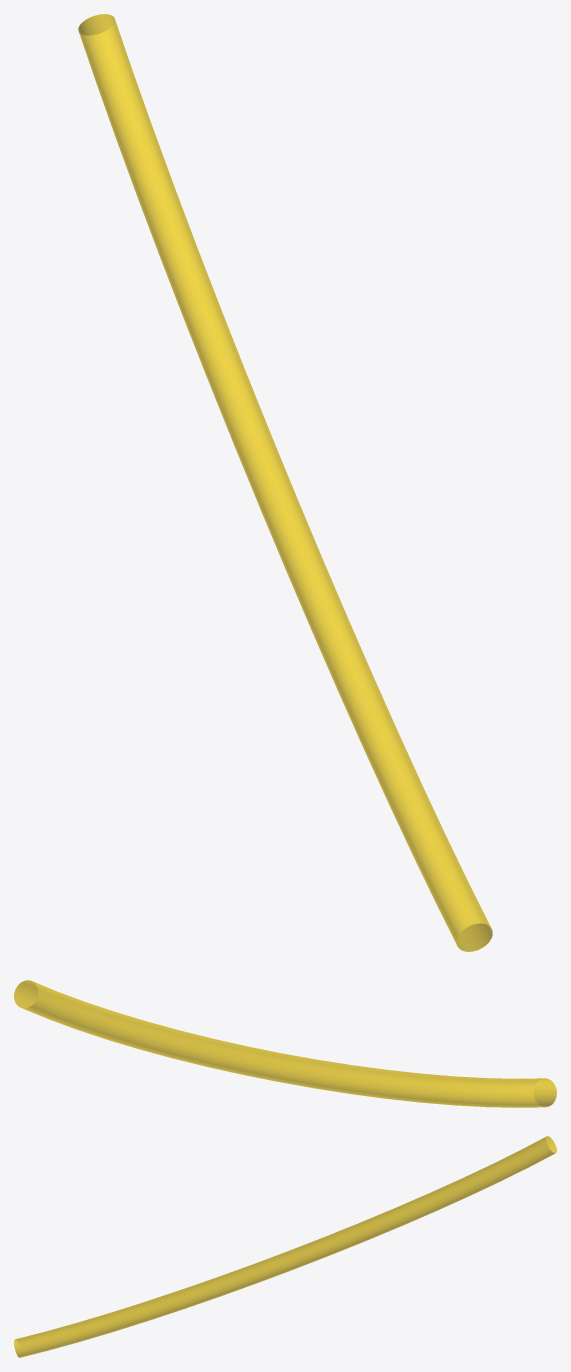
The model's file is Event_75125125_track_116.fbx.
3 renders of one model, top to bottom at view 1: azimuth 30°, elevation 25°; view 2: azimuth 150°, elevation 25°; view 3: azimuth 270°, elevation 25°, orthographic. The views are drawn at different scales.
Visible parts, largest first — view 1: Model; view 2: Model; view 3: Model.
Part boxes in pixels (x1=…): Model: x1=78, y1=14, x2=492, y2=951; Model: x1=14, y1=980, x2=556, y2=1107; Model: x1=14, y1=1136, x2=556, y2=1357.
Bounding box in the file's own units: 0.2262 × 0.5893 × 1.13.
